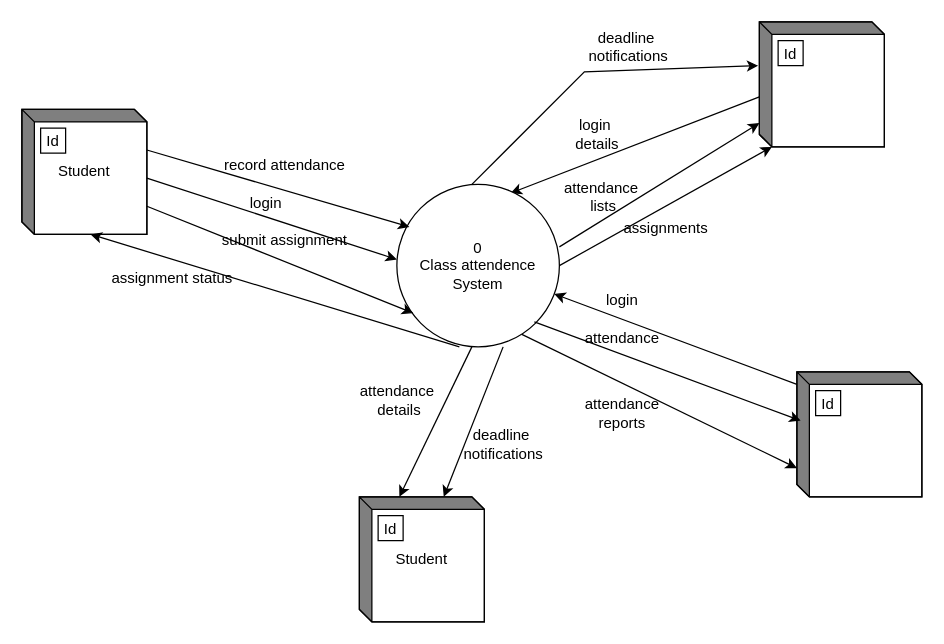
Some shapes in this 944 by 644 pixel diagram are drawn without their labels. Here are the shapes that lost their labels. From the top down, the centre of each, then its label:
(x=821, y=84): Lecturer
(x=859, y=434): Administrator
